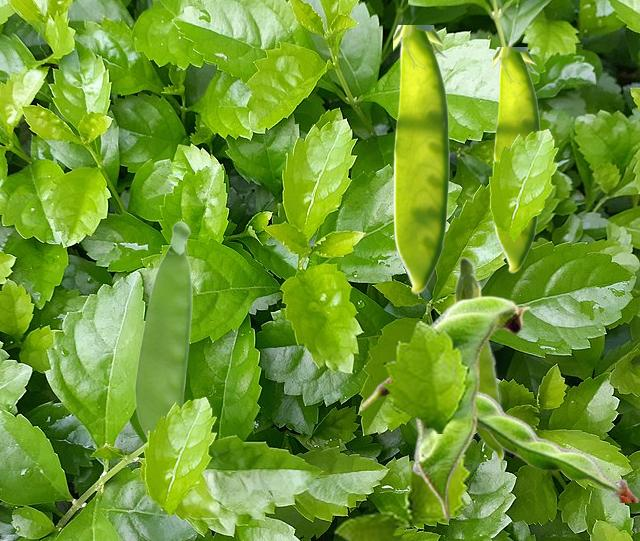pea: (359, 377, 638, 501), (411, 295, 530, 520), (393, 25, 449, 293), (134, 220, 192, 439), (453, 255, 505, 463), (493, 47, 540, 272)
